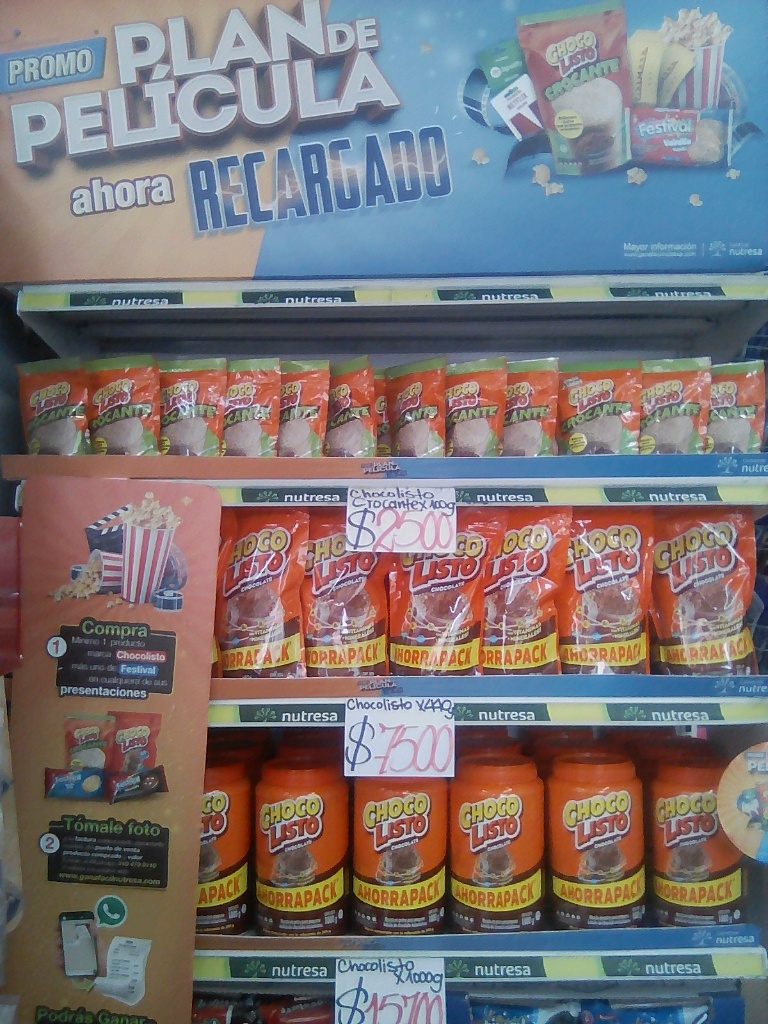COL0170102DYP10000: (15, 355, 91, 456)
COL0170103DYP44000: (638, 500, 765, 683)
COL0170103TRR00100: (644, 746, 757, 937)
